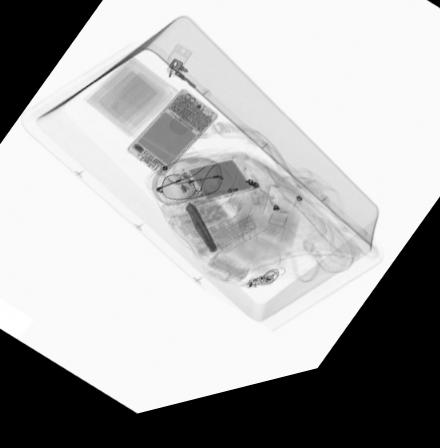Knife: (183, 212, 217, 263)
